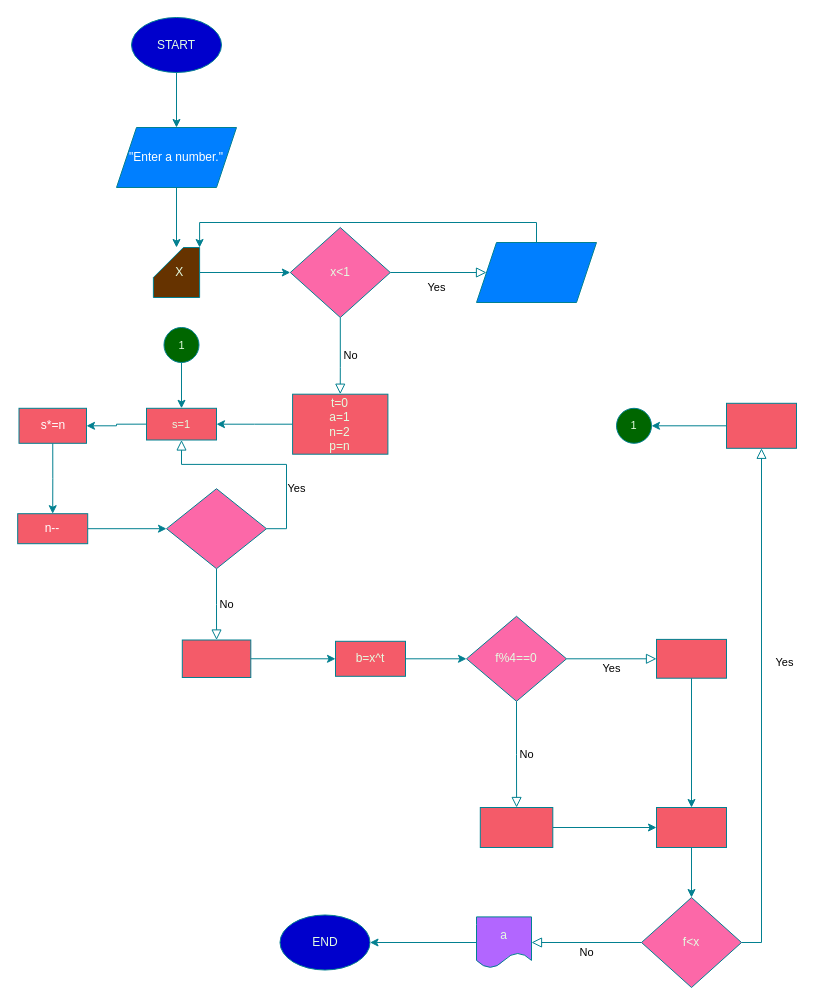
Some shapes in this 814 by 1005 pixel diagram are drawn without their labels. Each missing label, with the centre of its shape:
"Enter number greater than 1.": (x=536, y=272)
a+=b: (x=691, y=658)
a-=b: (x=516, y=827)
f=f+2: (x=691, y=827)
n=f: (x=761, y=425)
n>1: (x=216, y=528)
t+=(f/s): (x=216, y=658)
